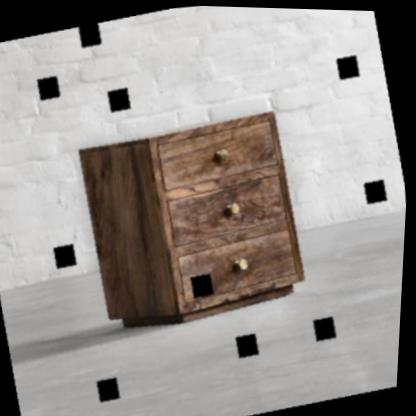Nightstand: (62, 102, 320, 333)
